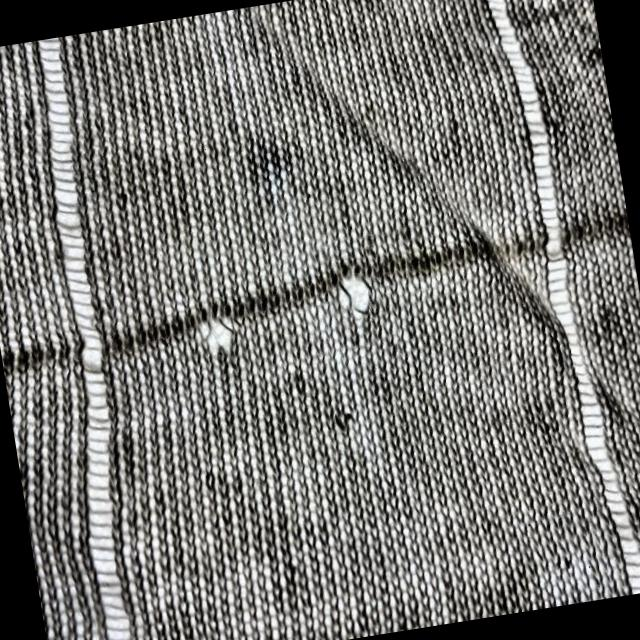cut: (328, 264, 384, 328), (196, 302, 244, 366)
gray stitch: (474, 0, 640, 603), (7, 36, 166, 640)
